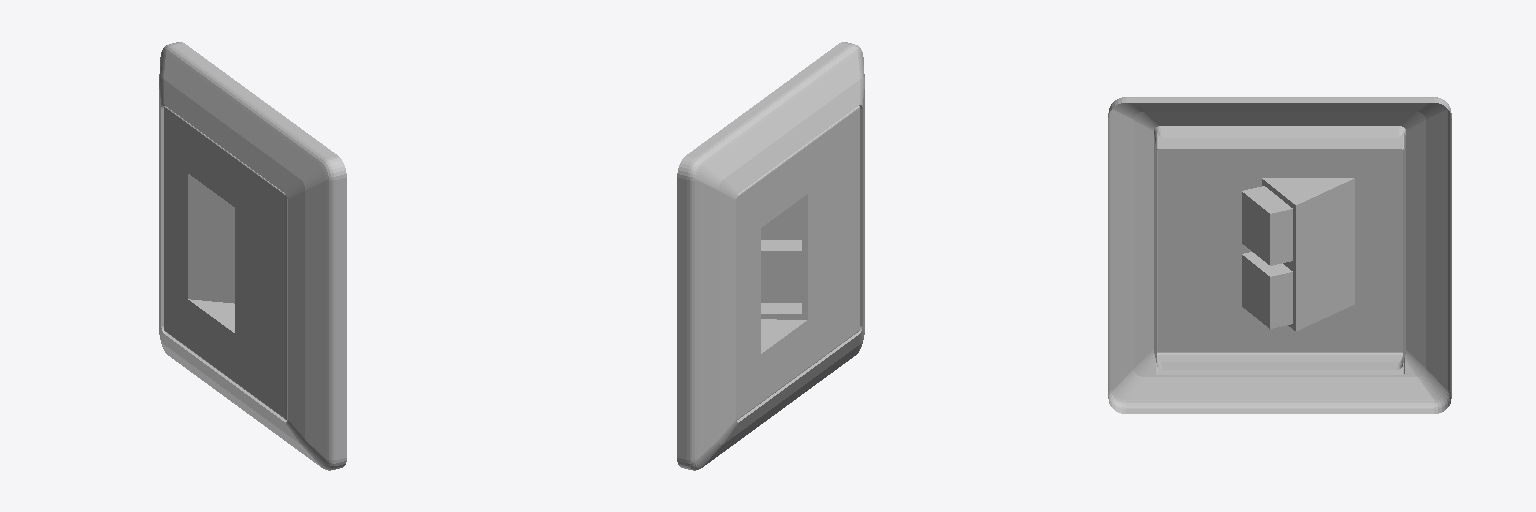
The model's file is SM_Socket_004.obj.
3 renders of one model, left to right at view 1: azimuth 30°, elevation 25°; view 2: azimuth 150°, elevation 25°; view 3: azimuth 270°, elevation 25°, orthographic.
Visible parts, largest first — view 1: SM_Socket_004; view 2: SM_Socket_004; view 3: SM_Socket_004.
Boxes of the visible parts, <box> form: SM_Socket_004: <box>159,42,346,470</box>; SM_Socket_004: <box>677,42,864,470</box>; SM_Socket_004: <box>1108,97,1451,413</box>.
Bounding box in the file's own units: 0.017 × 0.0805 × 0.0805.